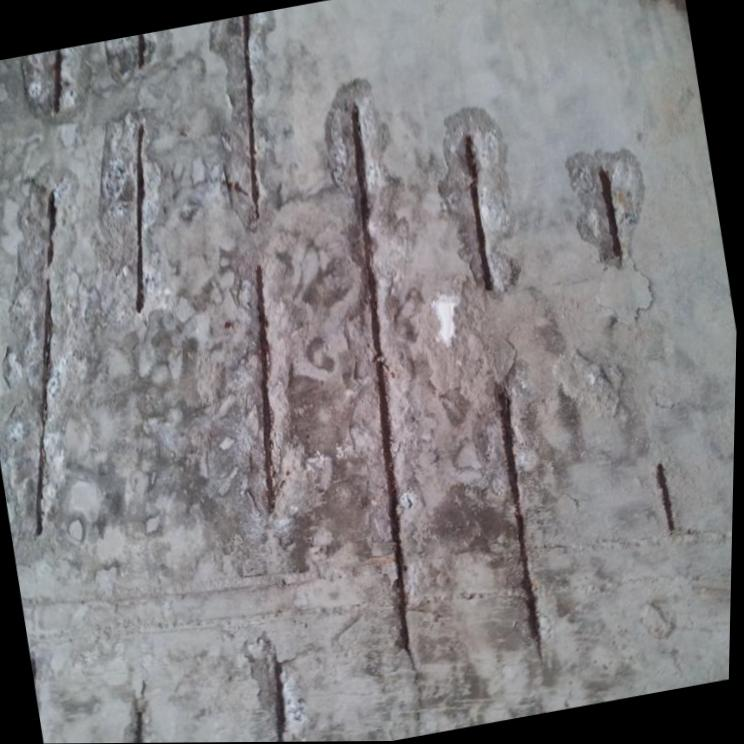damage: (0, 14, 694, 743)
